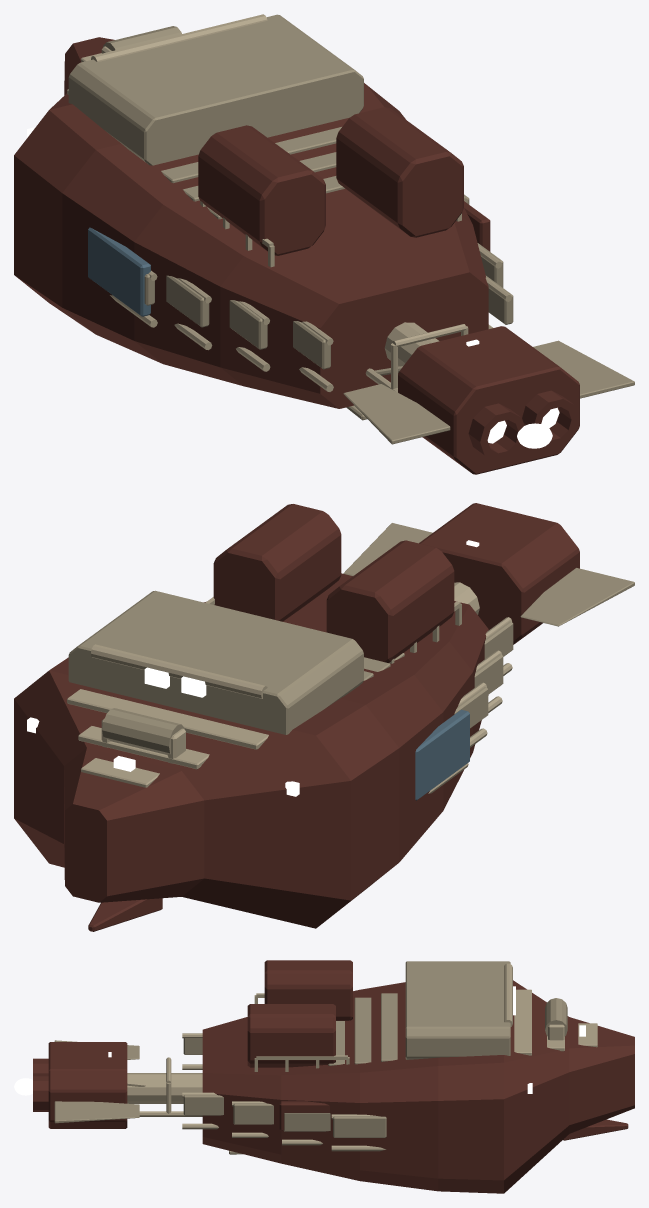
3 views of the same model, one above another, from view 1: azimuth 30°, elevation 25°; view 2: azimuth 150°, elevation 25°; view 3: azimuth 270°, elevation 25° (orthographic). The views are drawn at different scales.
Visible parts, largest first — view 1: RIMWARD_HULL, RIMWARD_ENGINE_GLOW, RIMWARD_EMISSIVE; view 2: RIMWARD_HULL, RIMWARD_EMISSIVE; view 3: RIMWARD_HULL.
Part boxes in pixels (x1,y1,x2,y2): RIMWARD_HULL: (14,14,634,474); RIMWARD_ENGINE_GLOW: (517,423,552,448); RIMWARD_EMISSIVE: (27,127,559,443); RIMWARD_HULL: (14,503,634,931); RIMWARD_EMISSIVE: (27,540,479,796); RIMWARD_HULL: (33,960,634,1193).
Bounding box in the file's own units: 3.15 × 2.14 × 7.39.
